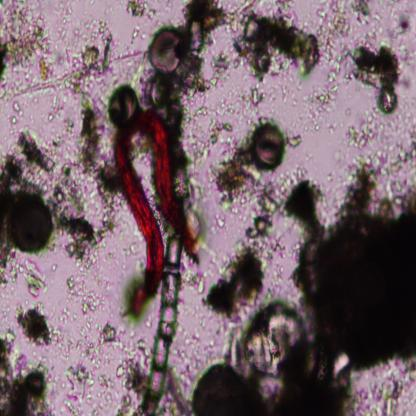Background material: (239, 148, 416, 415), (56, 105, 119, 267), (230, 1, 319, 83), (203, 240, 280, 321), (52, 20, 116, 107), (0, 1, 52, 99), (0, 330, 57, 415), (58, 278, 106, 366), (183, 2, 228, 90), (352, 41, 404, 117), (0, 128, 55, 195), (138, 65, 193, 124), (211, 144, 256, 214), (311, 43, 351, 113), (63, 368, 113, 416), (116, 335, 152, 399), (248, 177, 284, 241), (13, 298, 58, 349), (361, 375, 403, 415), (347, 116, 390, 152), (0, 193, 16, 283), (317, 0, 351, 42), (17, 257, 49, 298), (235, 84, 268, 113), (206, 116, 235, 146), (387, 14, 413, 40), (126, 0, 157, 21), (211, 53, 231, 83), (184, 268, 206, 293), (352, 0, 373, 25), (99, 321, 119, 347), (9, 100, 24, 124), (210, 214, 225, 235), (132, 23, 146, 41), (288, 133, 302, 148), (46, 110, 55, 124)
Cotton: (108, 107, 204, 314)
Diatom: (141, 234, 183, 413), (190, 362, 240, 414), (12, 193, 53, 254), (252, 119, 286, 170), (148, 26, 181, 72), (107, 86, 137, 124)
